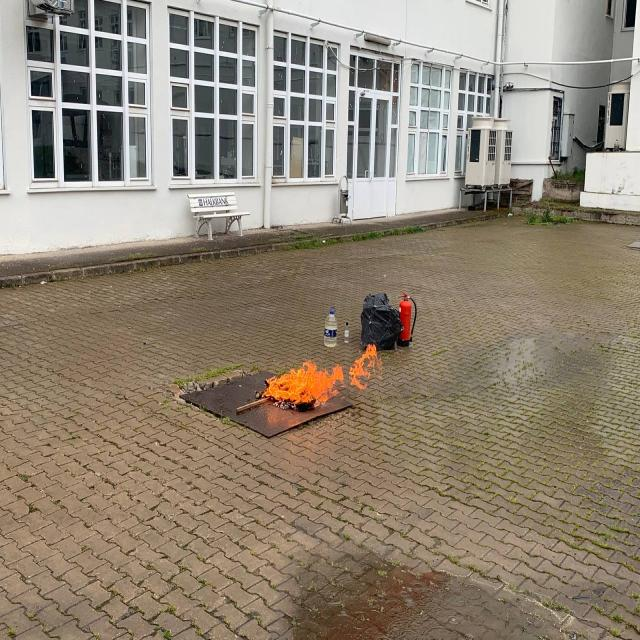fire: (262, 358, 345, 404), (348, 344, 383, 390)
